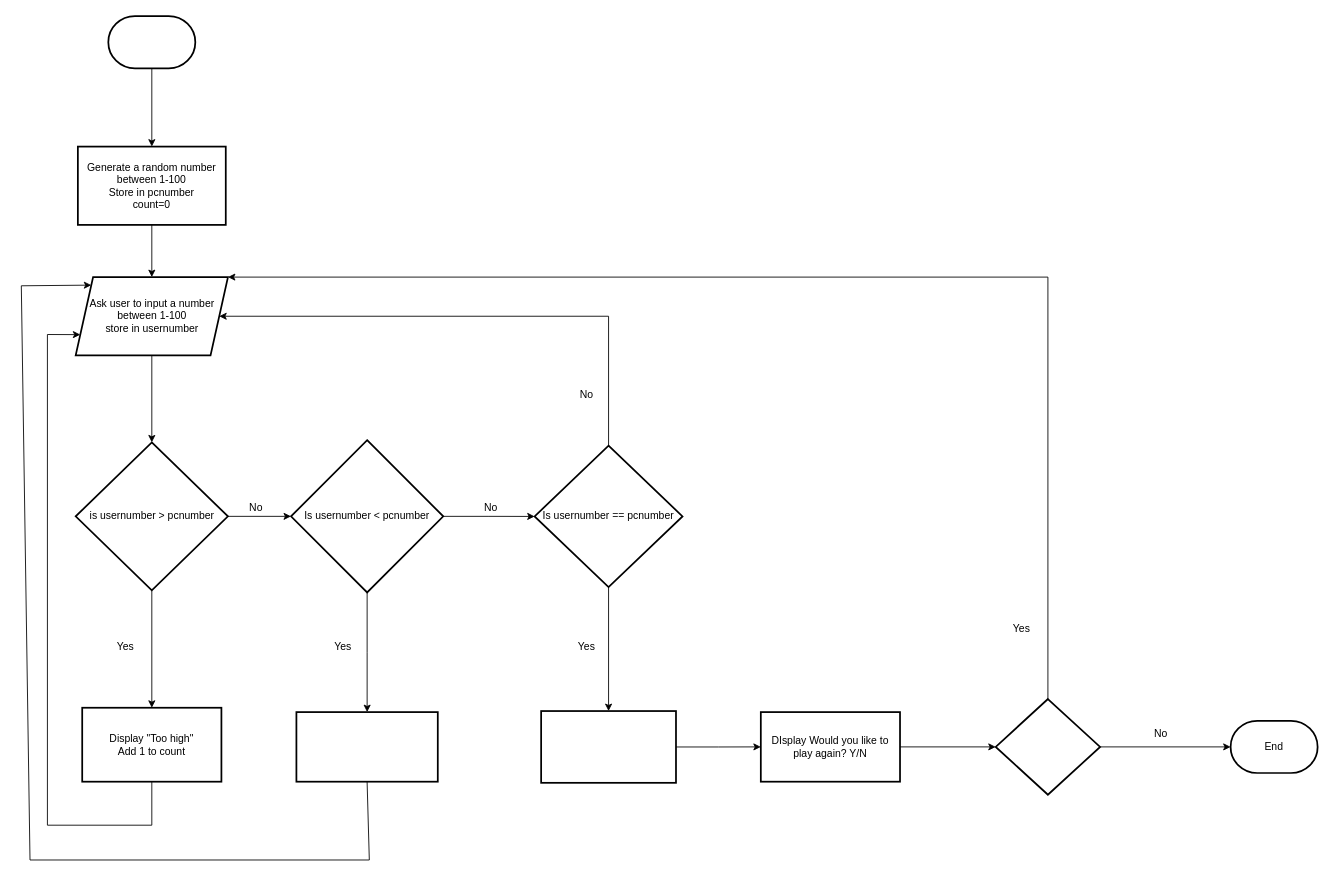
Image size: 1334x882. Some labels were removed from this diagram. Each missing label, with the box of its shape:
Display "Good Job!" Display Count: (540, 710, 676, 783)
Display "Too Low" Add 1 to count: (295, 711, 438, 782)
Is input Y: (994, 698, 1101, 795)
Start: (107, 15, 196, 69)
